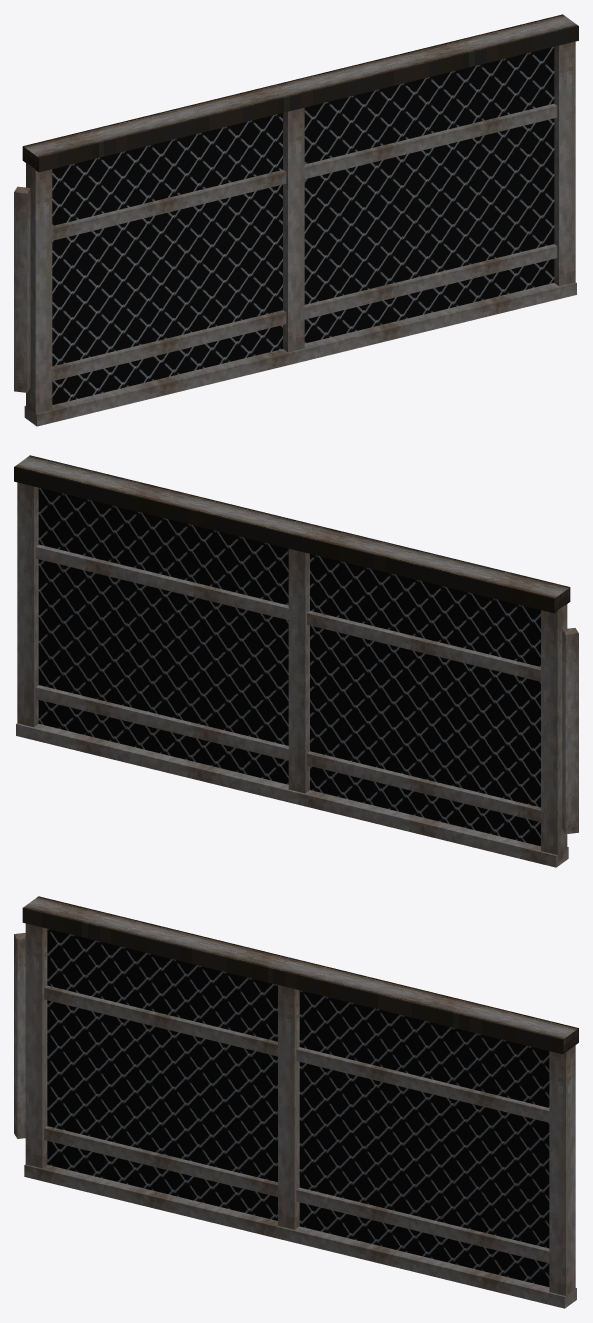
Rendered from TM1_ACOURSE_FENCE_GATE1.glb.
3 views of the same model, one above another, from view 1: azimuth 30°, elevation 25°; view 2: azimuth 150°, elevation 25°; view 3: azimuth 330°, elevation 25° (orthographic).
Visible parts, largest first — view 1: TM1_ACOURSE_FENCE_GATE1; view 2: TM1_ACOURSE_FENCE_GATE1; view 3: TM1_ACOURSE_FENCE_GATE1.
Boxes of the visible parts, x1=… form: TM1_ACOURSE_FENCE_GATE1: x1=14, y1=14, x2=578, y2=426; TM1_ACOURSE_FENCE_GATE1: x1=14, y1=455, x2=578, y2=867; TM1_ACOURSE_FENCE_GATE1: x1=14, y1=896, x2=578, y2=1308.
Bounding box in the file's own units: 2 × 0.927 × 0.1.
Materials: 2 (2 with a texture image).
